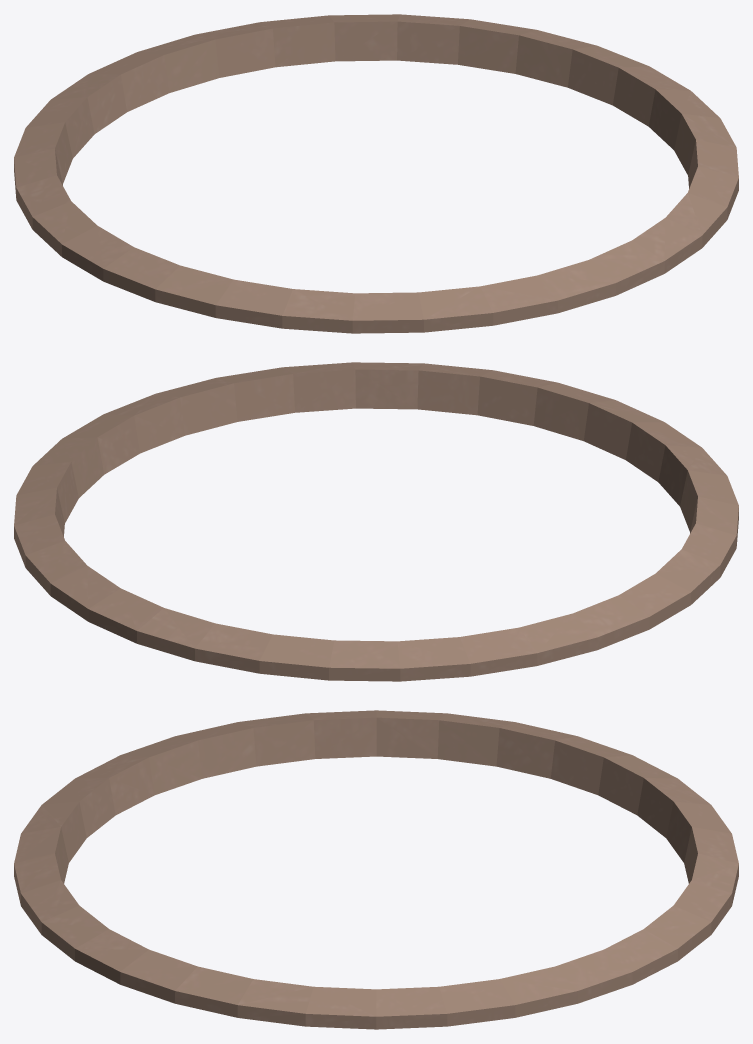
The model's file is zango.obj.
3 views of the same model, one above another, from view 1: azimuth 30°, elevation 25°; view 2: azimuth 150°, elevation 25°; view 3: azimuth 270°, elevation 25° (orthographic).
Visible parts, largest first — view 1: encyu; view 2: encyu; view 3: encyu.
Boxes of the visible parts, left/top/right/bottom form: encyu: left=14, top=14, right=738, bottom=333; encyu: left=14, top=362, right=738, bottom=681; encyu: left=14, top=710, right=738, bottom=1029.
Bounding box in the file's own units: 26.33 × 1.43 × 26.33.
1 material, 1 textured.
